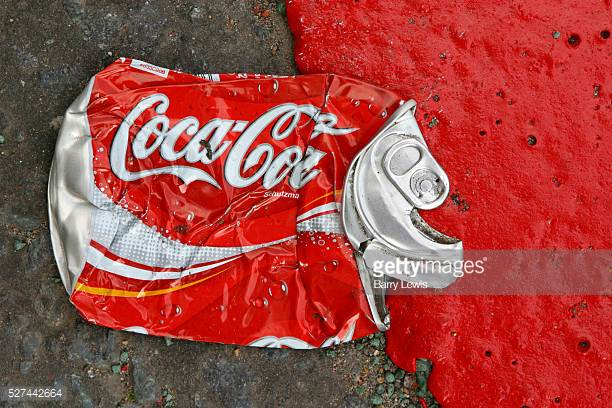can: (38, 46, 479, 367)
